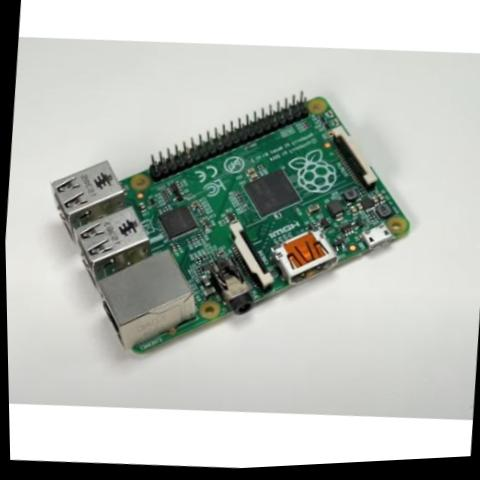Raspberry-Pi-1-Model-B-: (24, 59, 430, 396)
